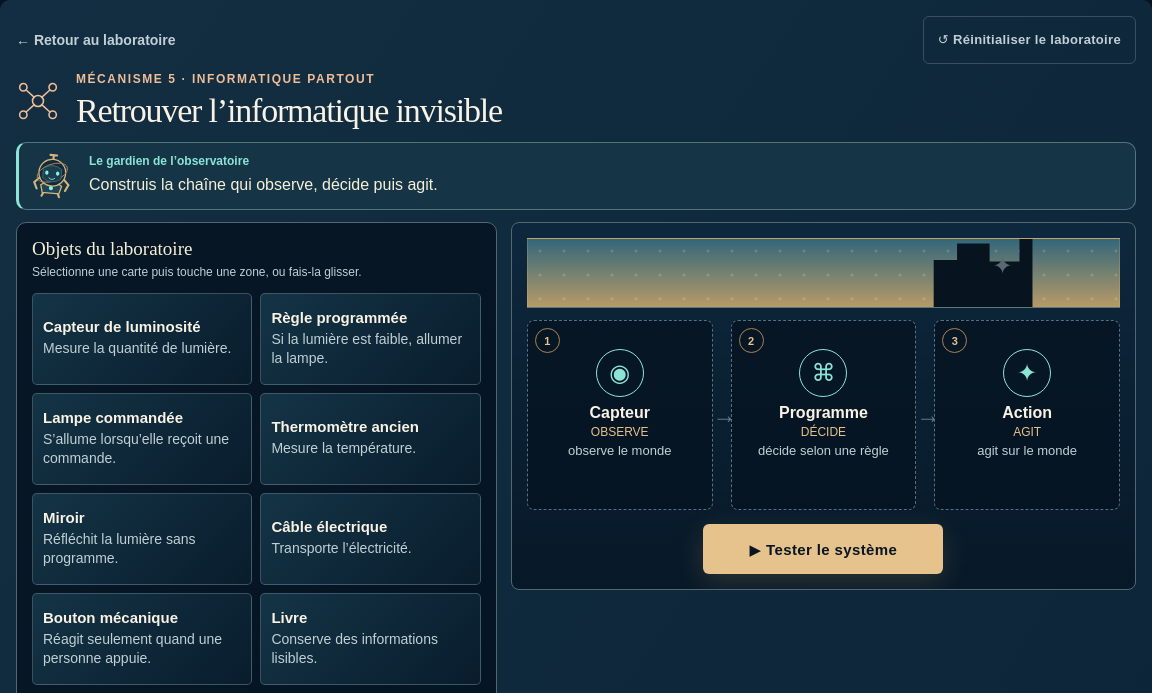
Test: mission Informatique partout › accepte un glissement tactile
Press the mouse on the button "Lampe commandée S’allume lorsqu’elle reçoit une commande." at (142, 439), box [32, 393, 252, 485]
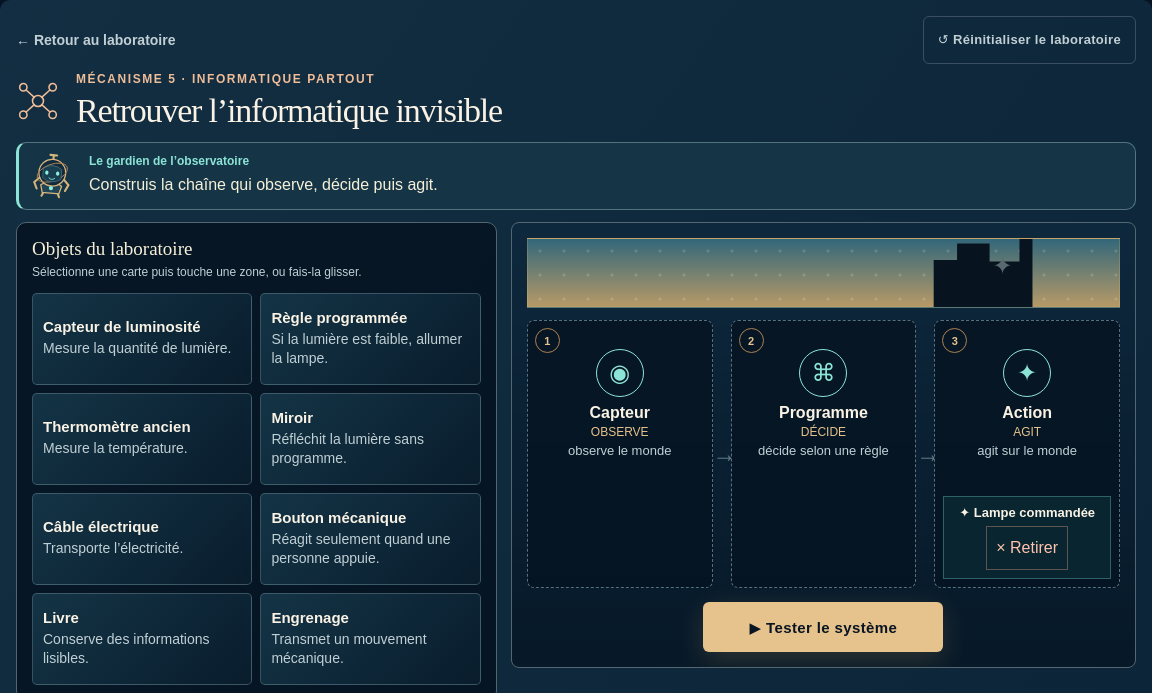
expect the button with aria-label "Action, agit sur le monde, contient Lampe commandée" is shown: met, box [934, 320, 1120, 588]
